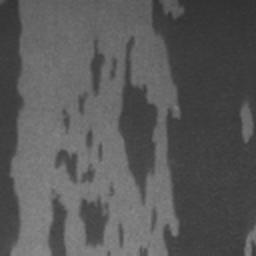Red iron sheet: (61, 0, 256, 256), (0, 0, 26, 256), (79, 186, 123, 248), (54, 150, 96, 186), (47, 197, 68, 256), (86, 131, 104, 161), (138, 247, 150, 256)
